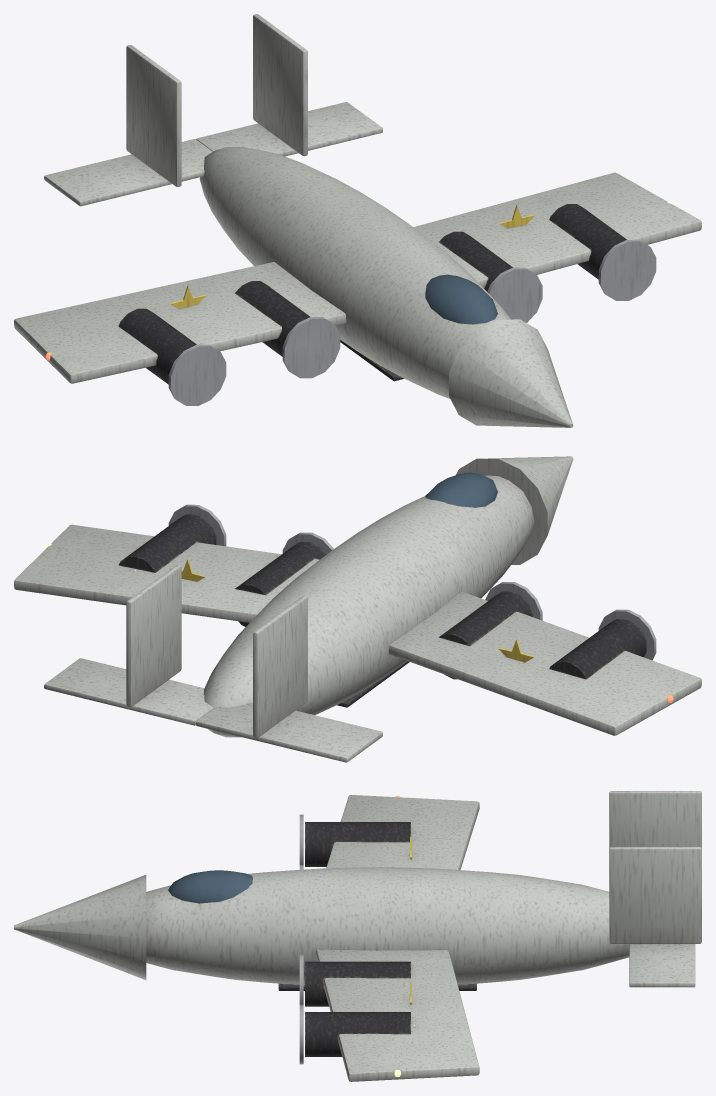
Rendered from red_bomber.glb.
The picture shows the model from 3 angles, top to bottom: view 1: azimuth 30°, elevation 25°; view 2: azimuth 150°, elevation 25°; view 3: azimuth 270°, elevation 25°; orthographic projection. The views are drawn at different scales.
Visible parts, largest first — view 1: Hull; view 2: Hull; view 3: Hull.
Part boxes in pixels (bbox=[...]): Hull: bbox=[14, 14, 701, 427]; Hull: bbox=[14, 456, 701, 762]; Hull: bbox=[14, 791, 701, 1081].
Size of the model in its own units: 10 by 2.7 by 10.4.
8 materials, 8 textured.
